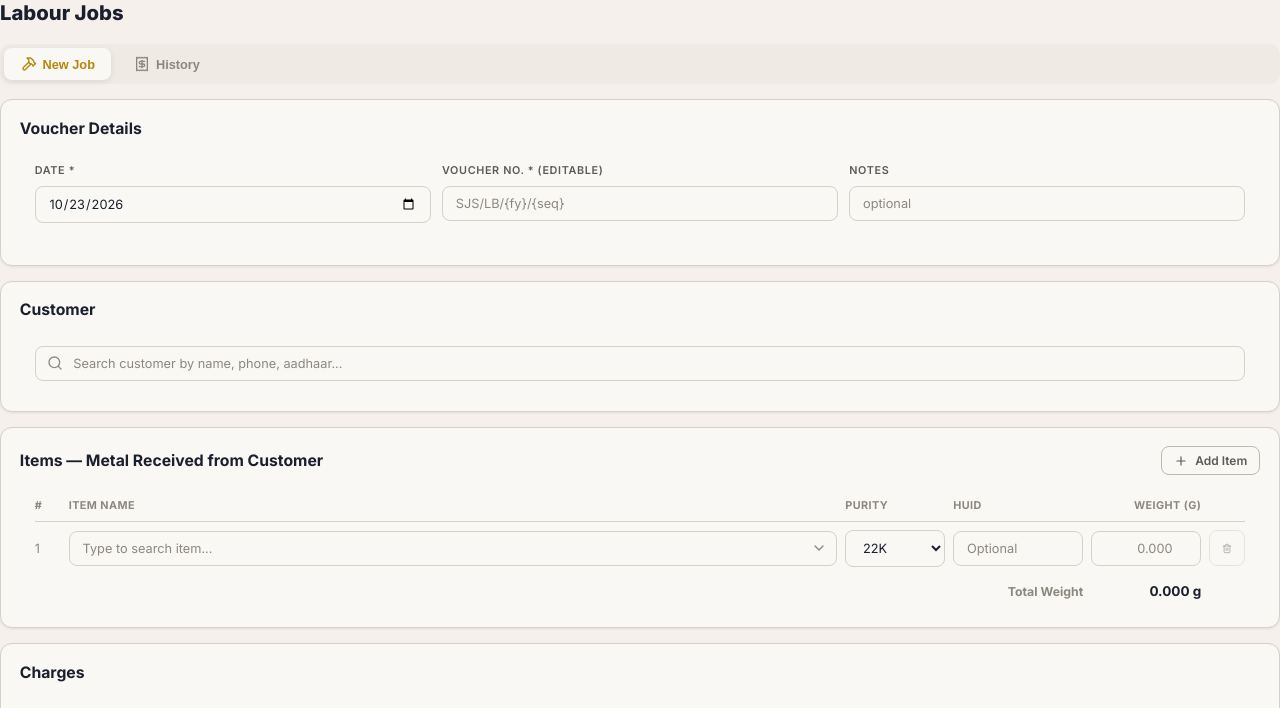
Test: LabourJobPage › lets you re-edit the same job immediately after a successful update
# First edit pass
Click the button "History". click: (167, 64)
box: top-left (117, 48), bottom-right (216, 80)
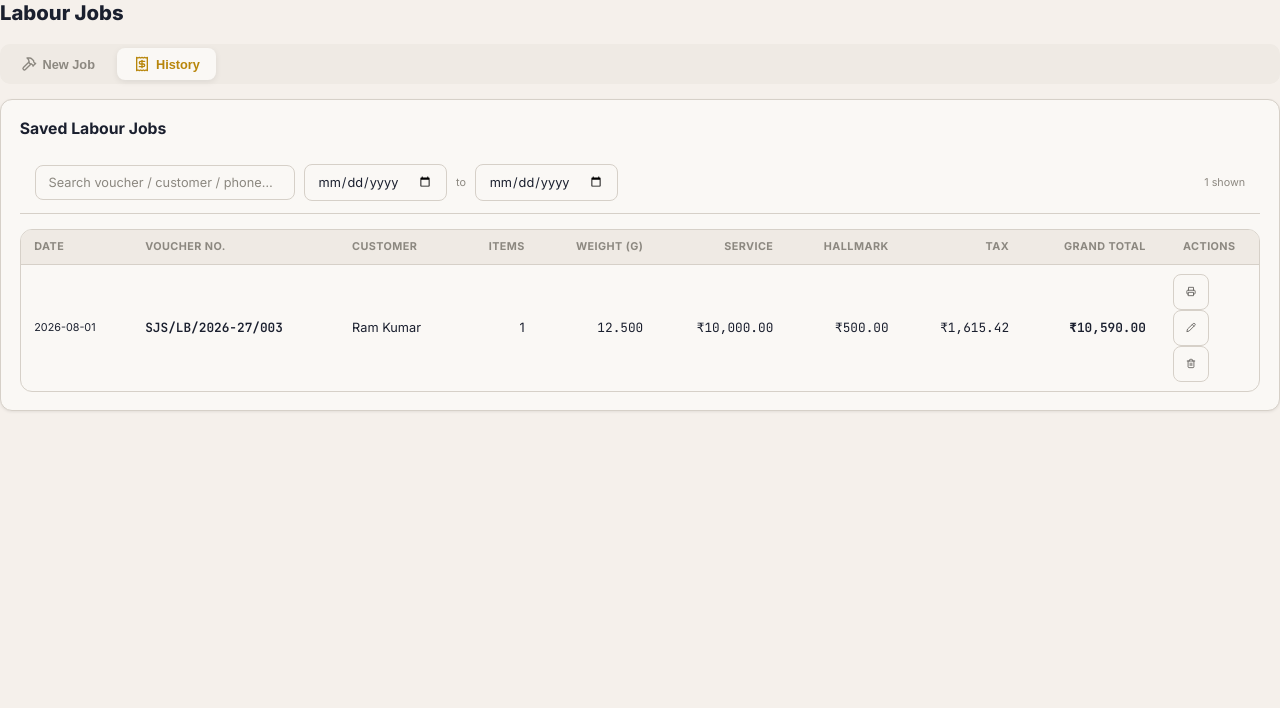
Expected: the text "SJS/LB/2026-27/003" is shown, top-left (132, 264), bottom-right (339, 390)
Click the button titled "Edit". click: (1191, 328)
box: top-left (1173, 310), bottom-right (1209, 346)
(page scrolled)
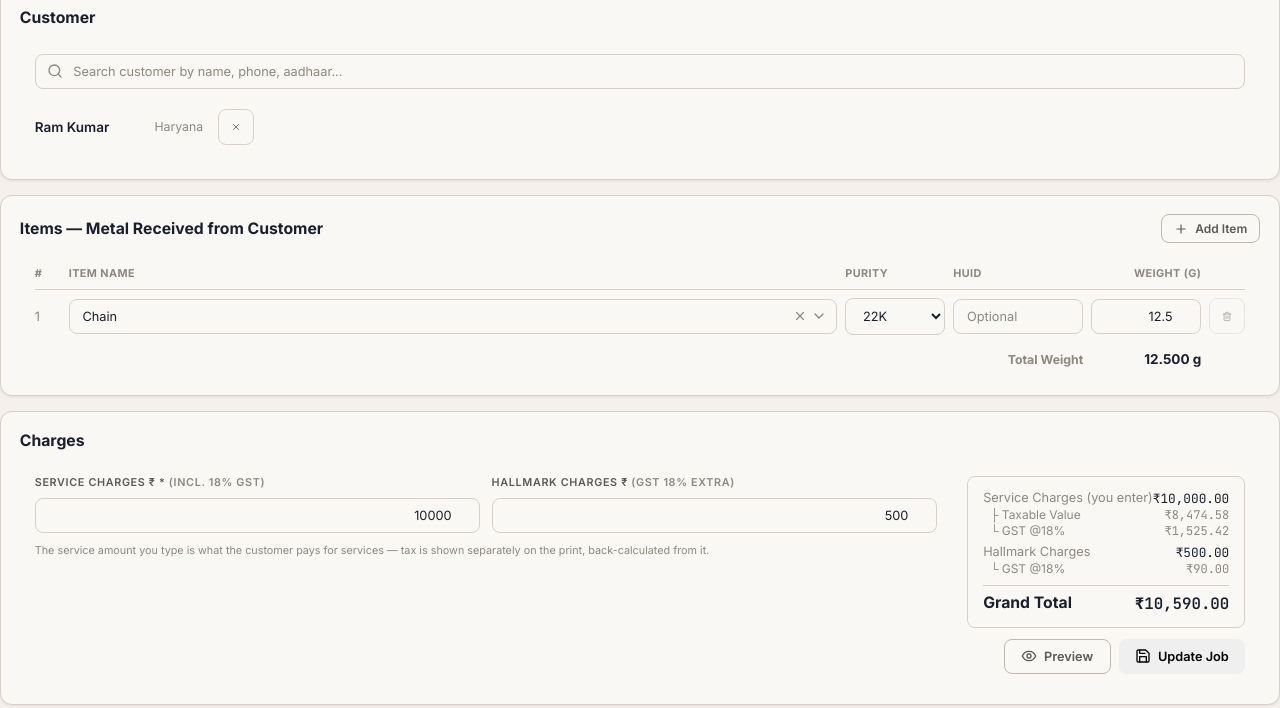
# Save the update — must send the row id
Click the button "Update Job". click: (1182, 656)
box: top-left (1119, 639), bottom-right (1245, 674)
(page scrolled)
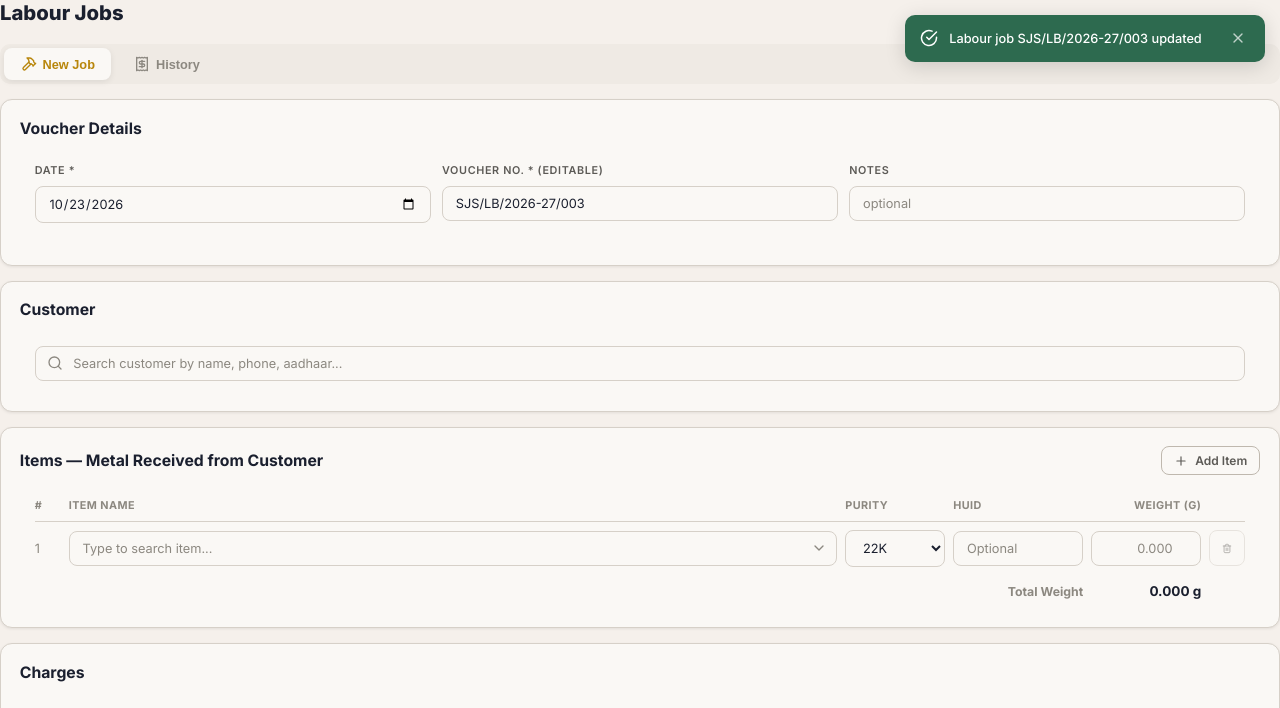
# Second edit pass on the SAME job must reload it (not show a blank form)
Click the button "History". click: (167, 64)
box: top-left (117, 48), bottom-right (216, 80)
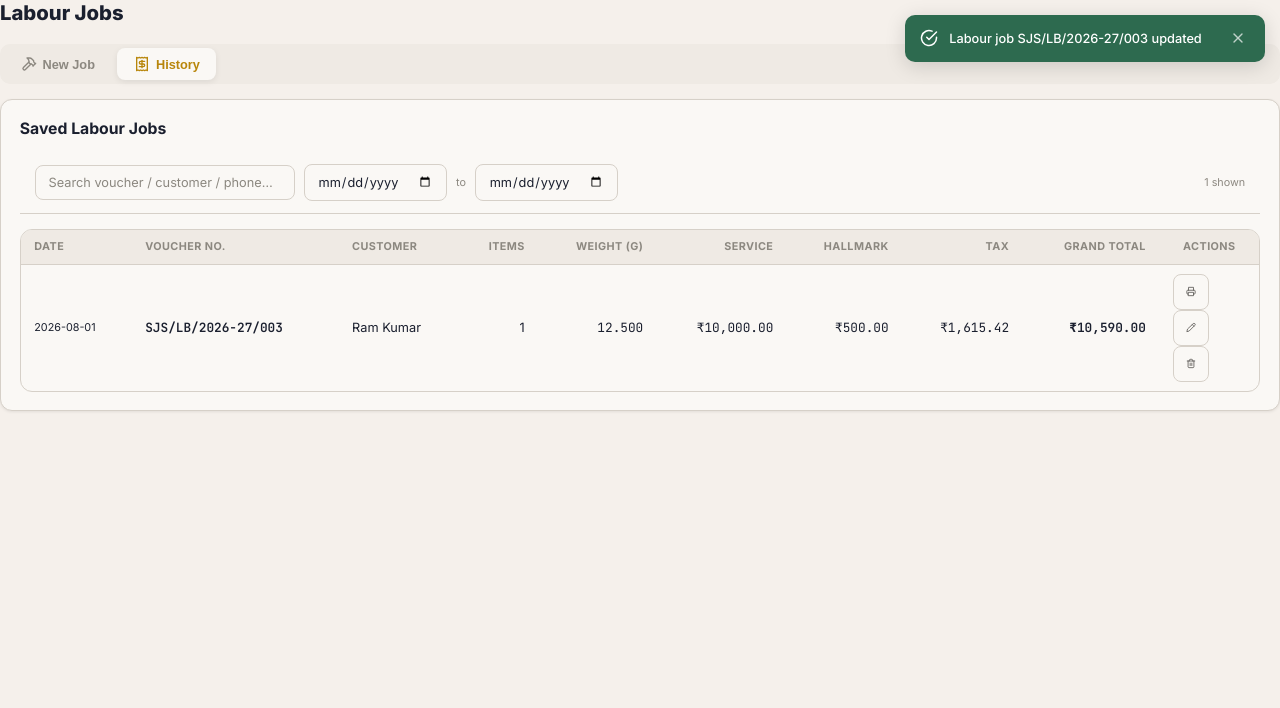
Expected: the text "SJS/LB/2026-27/003" is shown, top-left (132, 264), bottom-right (339, 390)
Click the button titled "Edit". click: (1191, 328)
box: top-left (1173, 310), bottom-right (1209, 346)
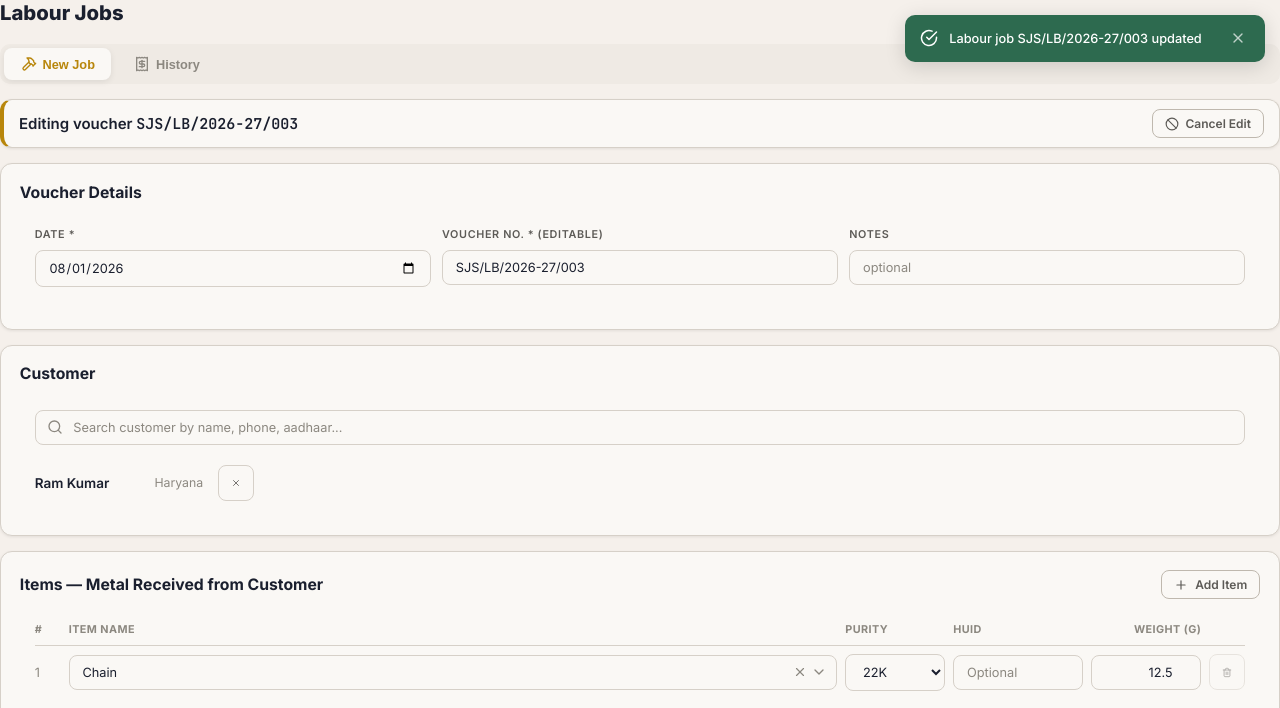
Expected: the text "Editing voucher SJS/LB/2026-27/003" is shown, top-left (19, 114), bottom-right (298, 134)
Expected: the field showing "SJS/LB/2026-27/003" below "Voucher No. * (editable)" is shown, top-left (442, 250), bottom-right (838, 285)
